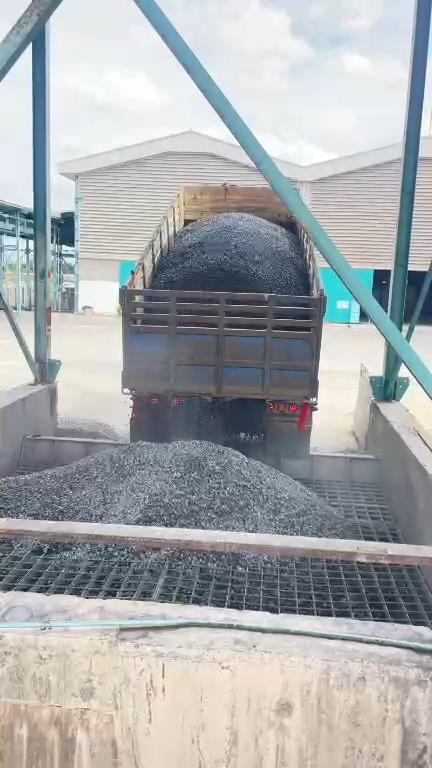gravel: (0, 442, 343, 536), (152, 213, 309, 295), (52, 543, 287, 571), (55, 416, 124, 441)
